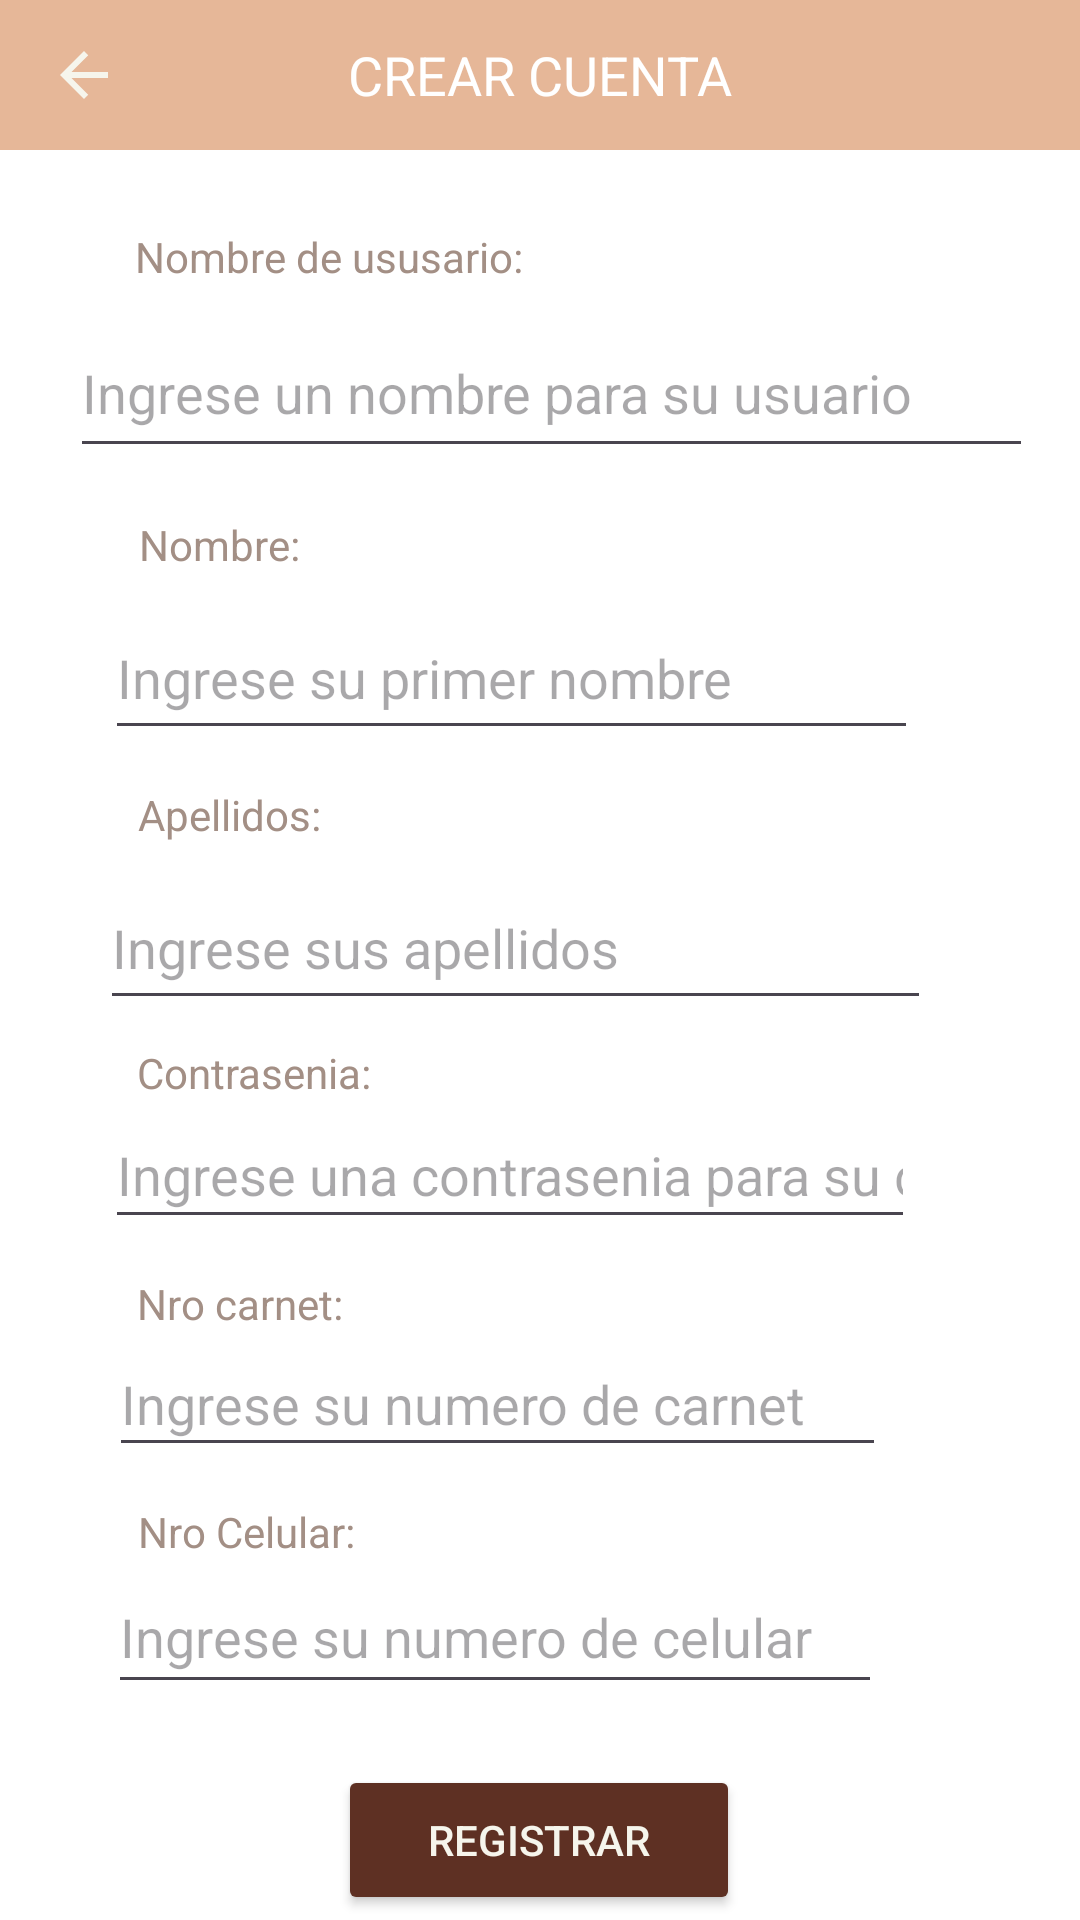

Icons on this 1080w x 1920h Android screen, each with its box as (x1, y1, x2, y2):
back activity: (60, 51, 108, 99)
